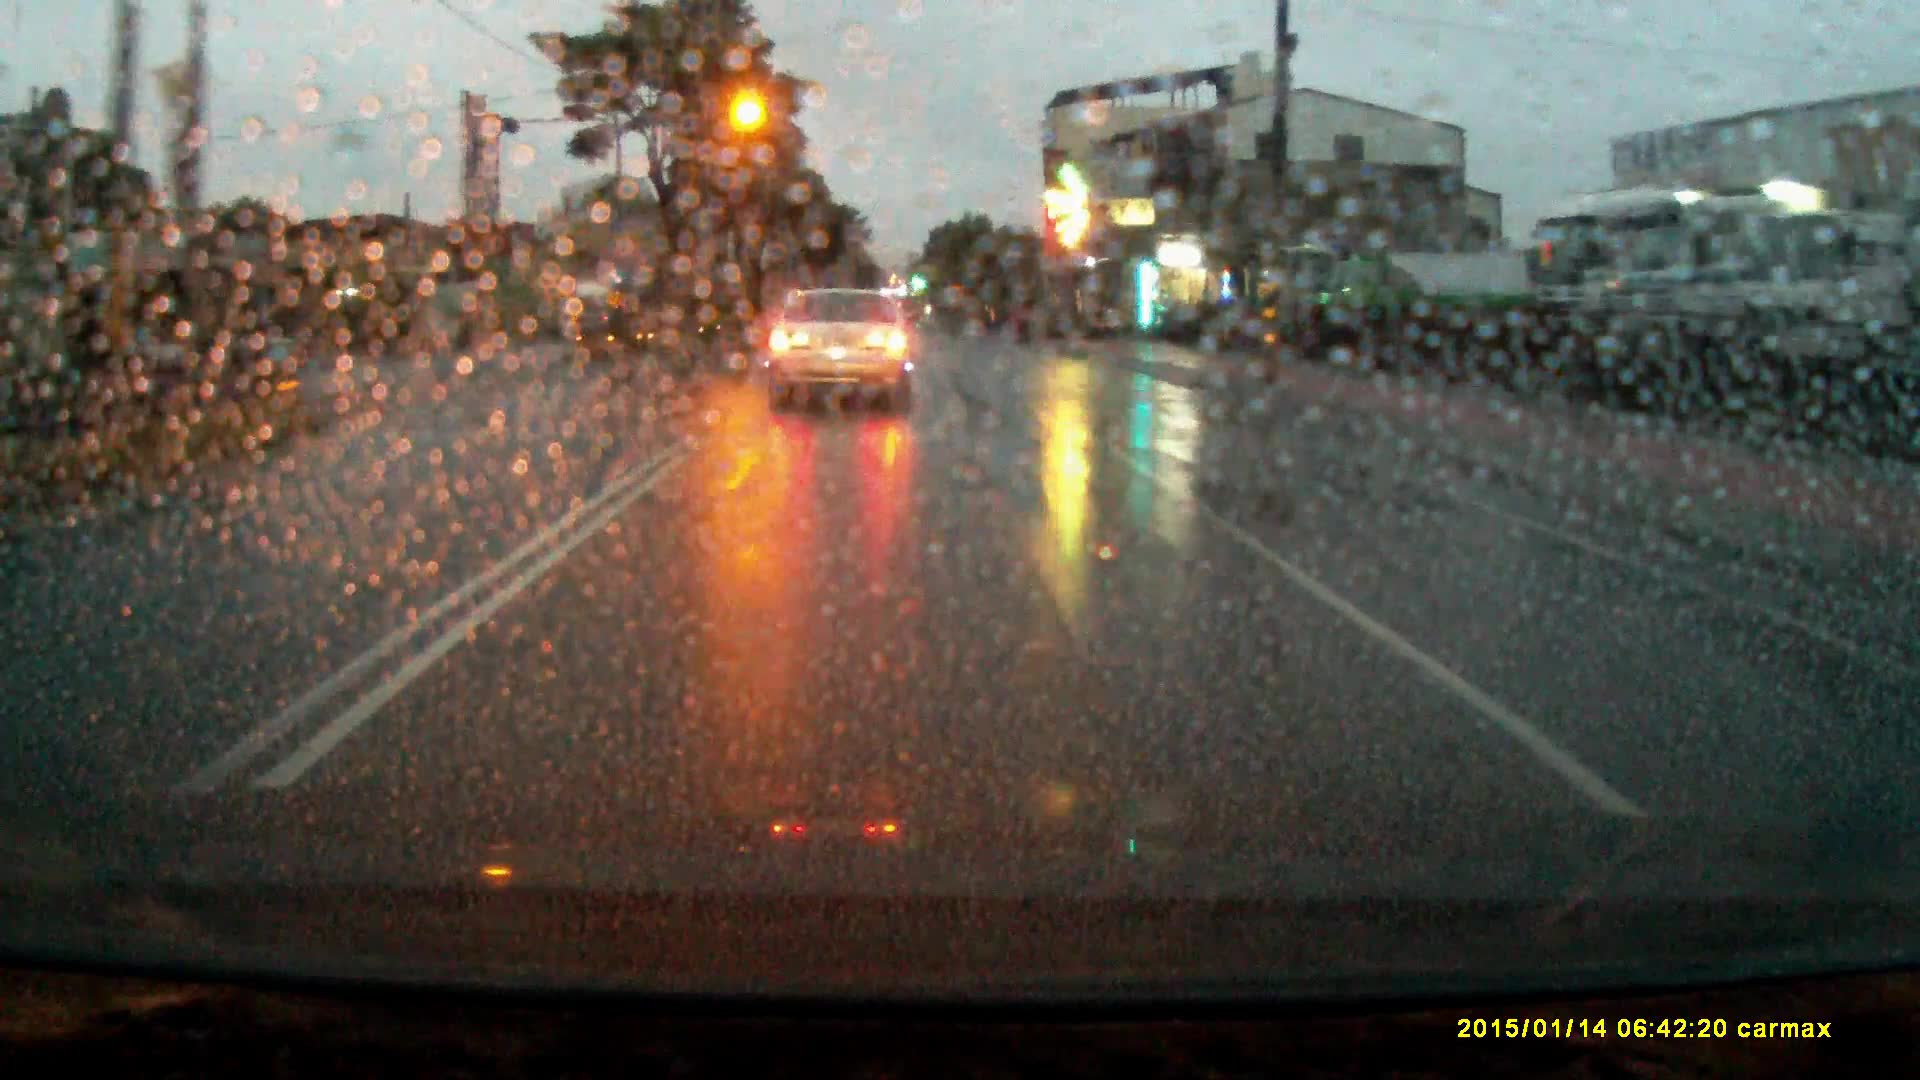vehicle: (1745, 208, 1908, 433), (1538, 187, 1700, 392), (767, 287, 920, 414), (1323, 251, 1516, 342), (1261, 241, 1346, 339), (567, 277, 626, 334)
